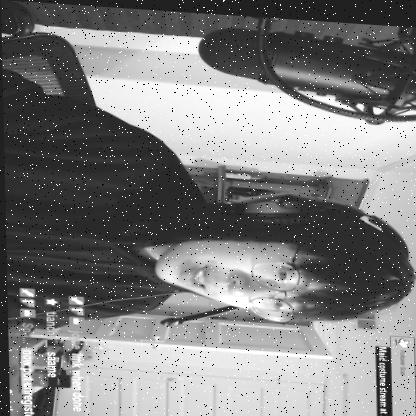streamer: (1, 64, 416, 362)
